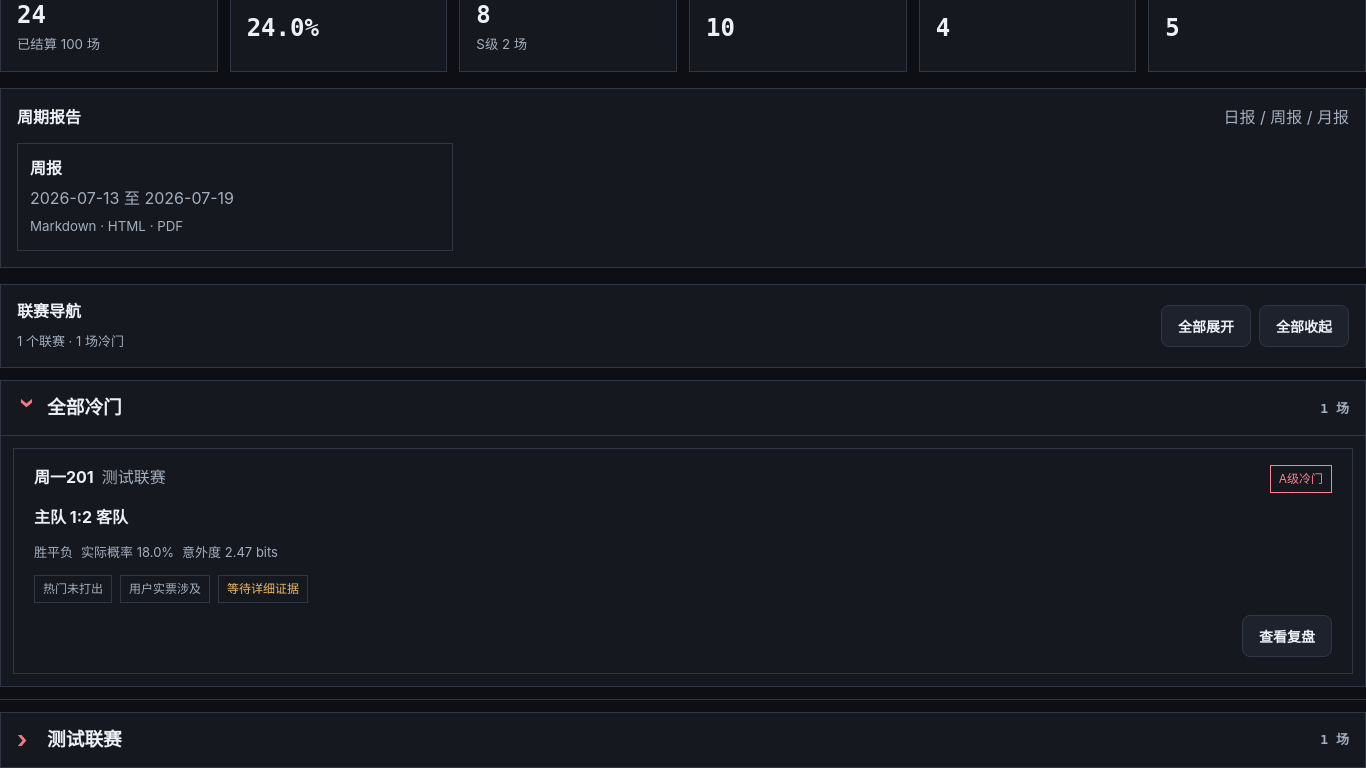
UpsetsPage › 打开详情后展示完整赔率和彩票影响
The image size is (1366, 768).
(page scrolled)
Click the button "查看复盘" at (1287, 636), box [1242,615,1332,657]
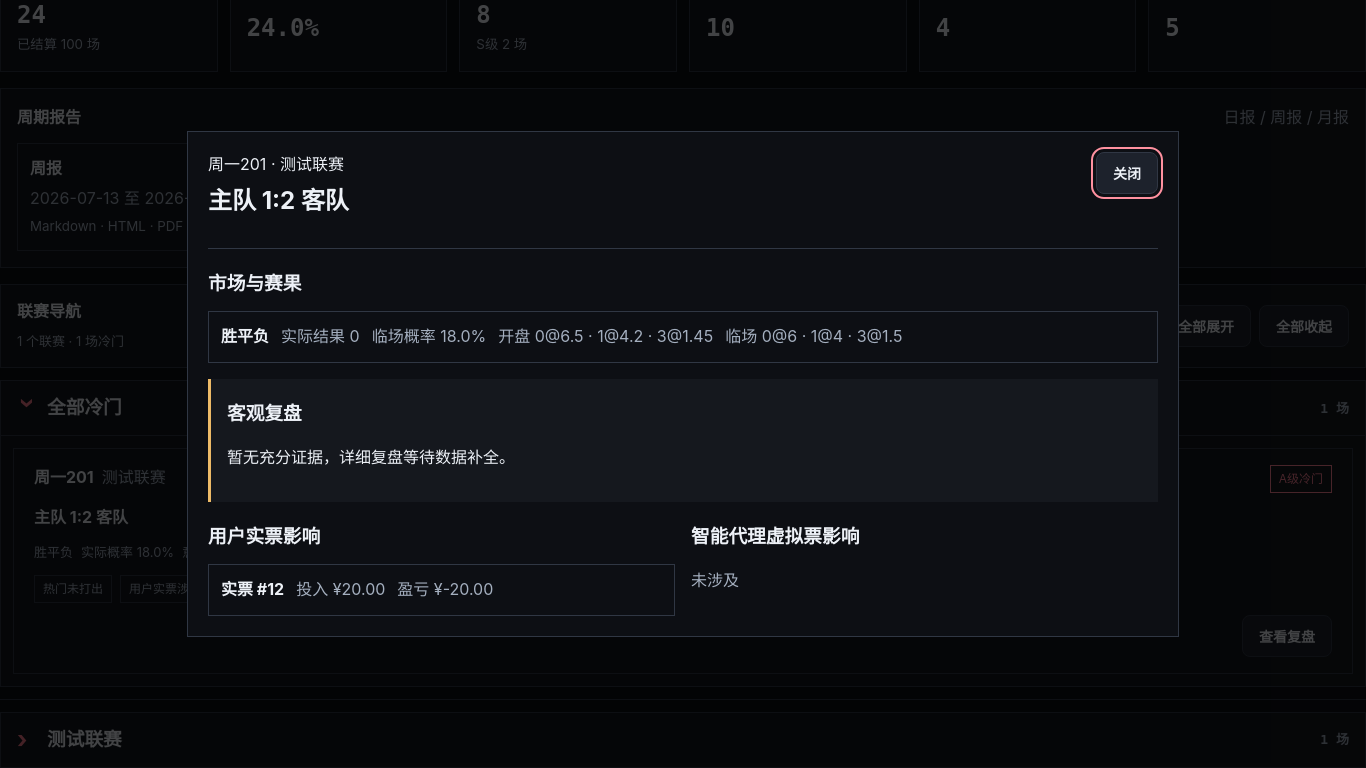
Now the heading "市场与赛果" is shown, box [208,272,302,295]
Now the text "实票 #12" is shown, box [221,577,284,603]
Now the text "暂无充分证据，详细复盘等待数据补全。" is shown, box [227,447,515,467]
